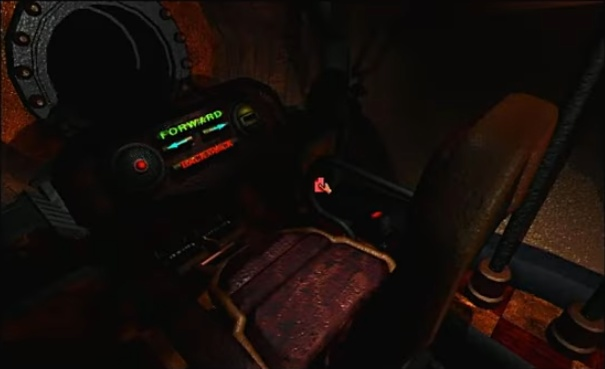Keep: (310, 174, 334, 197)
